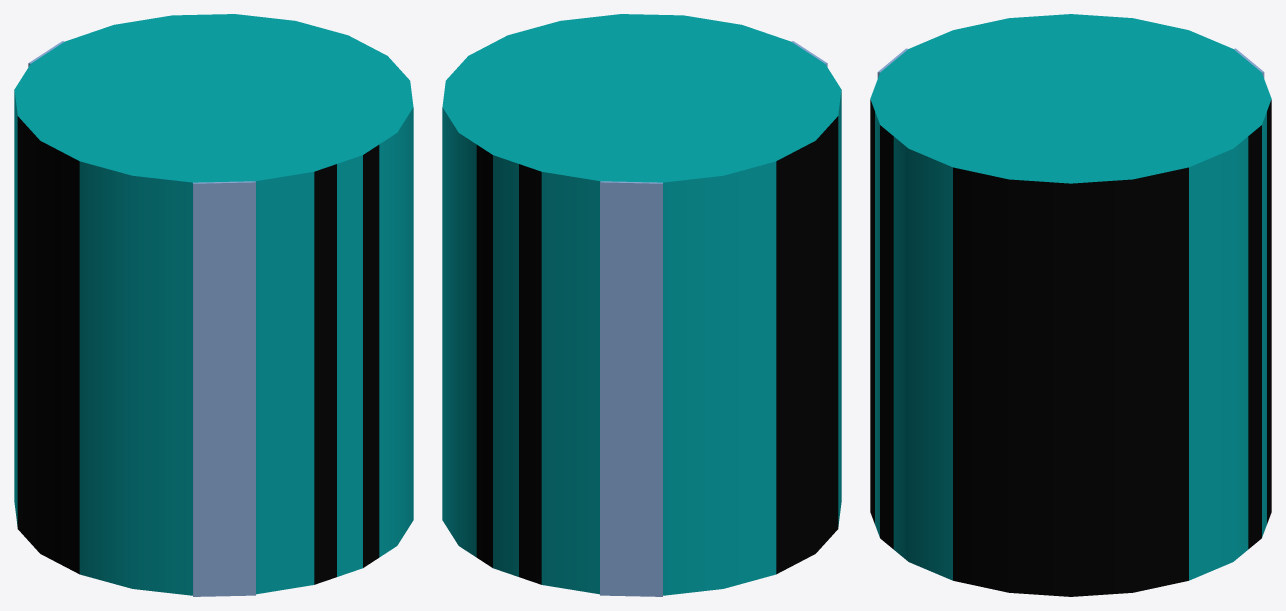
The model's file is br-m-pillar-aqua.fbx.
The picture shows the model from 3 angles, left to right: view 1: azimuth 30°, elevation 25°; view 2: azimuth 150°, elevation 25°; view 3: azimuth 270°, elevation 25°; orthographic projection.
Parts seen in each view (by area): view 1: pillar; view 2: pillar; view 3: pillar.
Boxes of the visible parts, x1=… form: pillar: x1=14, y1=14, x2=413, y2=596; pillar: x1=442, y1=14, x2=841, y2=596; pillar: x1=870, y1=14, x2=1271, y2=596.
Size of the model in its own units: 1.76 by 2 by 1.76.
